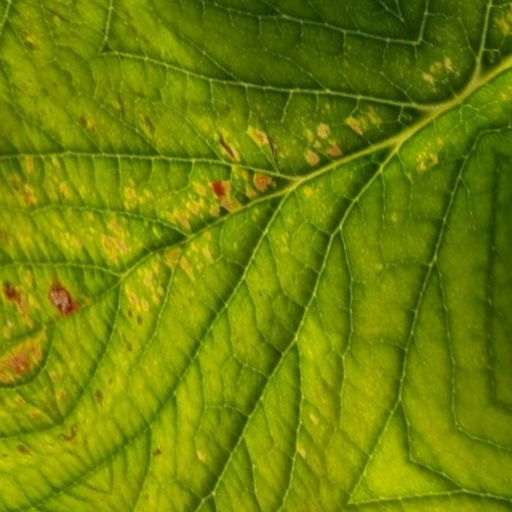Angular Leafspot: (0, 0, 511, 511)
